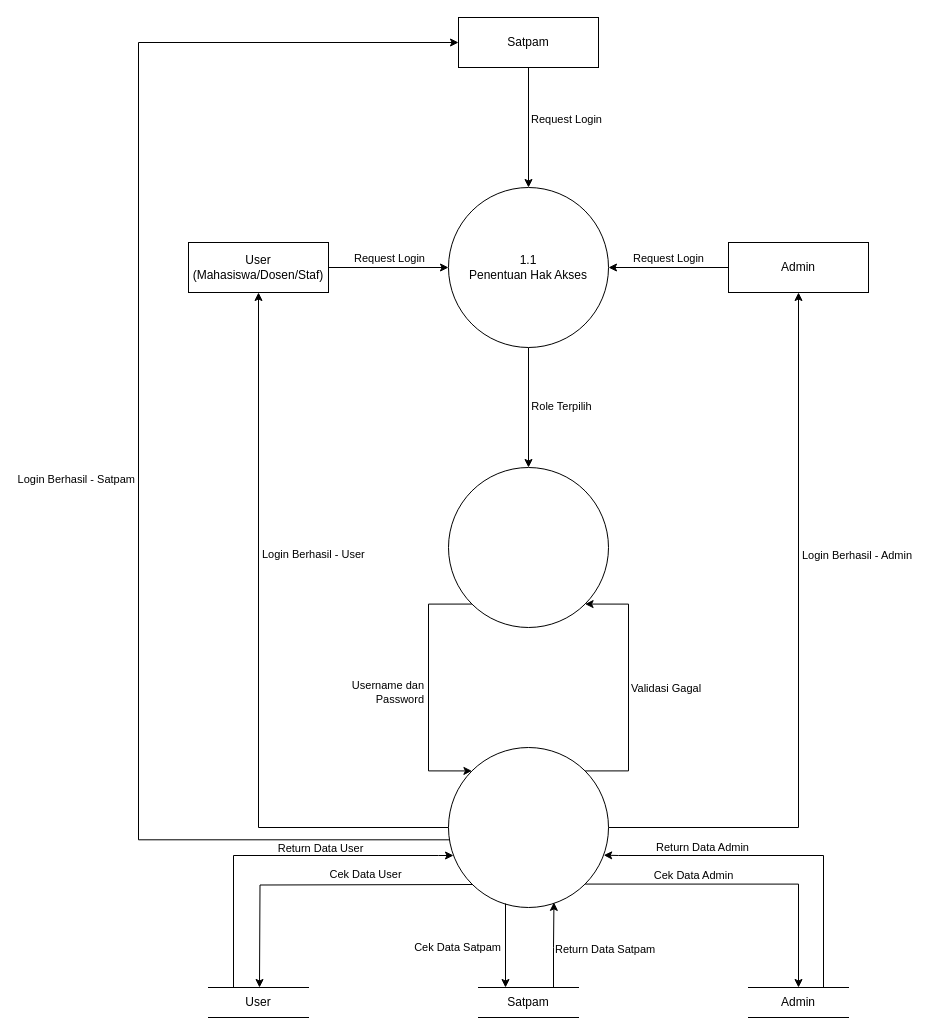
This 929x1035 diagram has some shape labels left out. Each missing label, with the centre of its shape:
1.2 Input Data Login: point 528,547
1.3 Validasi Login: point 528,827
